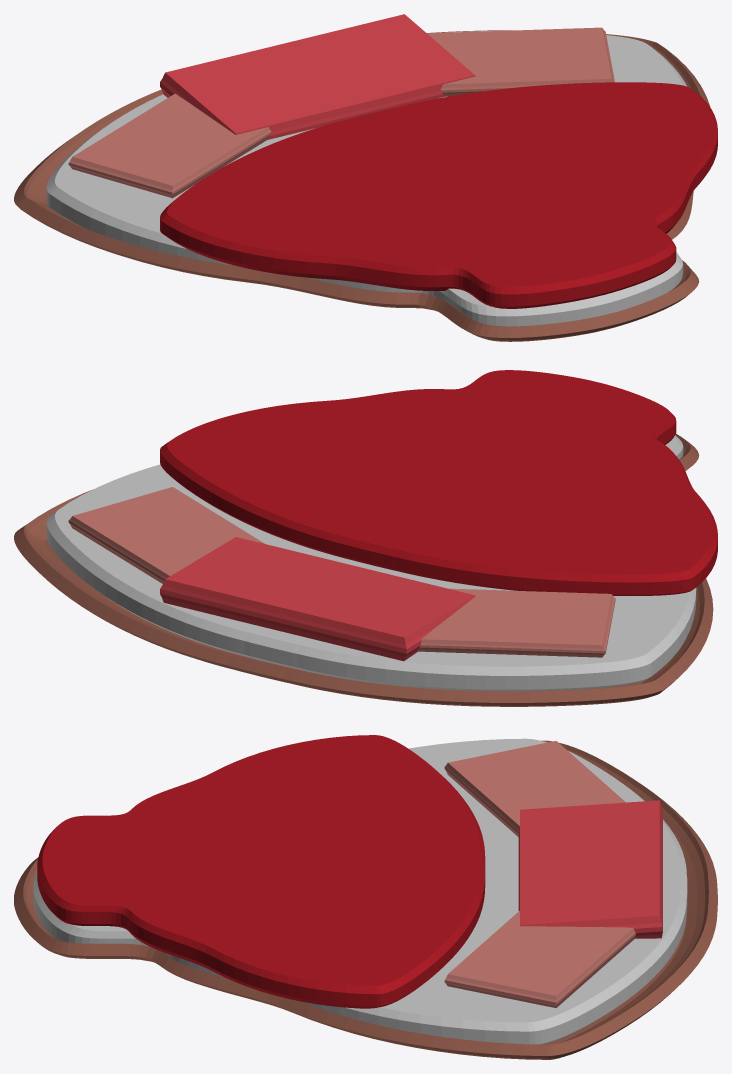
The model's file is bed.glb.
3 renders of one model, top to bottom at view 1: azimuth 30°, elevation 25°; view 2: azimuth 150°, elevation 25°; view 3: azimuth 270°, elevation 25°, orthographic.
Visible parts, largest first — view 1: BézierCurve.002, Cube.002, BézierCurve.001, BézierCurve, Cube.003, Cube.001; view 2: BézierCurve.002, BézierCurve.001, Cube.002, BézierCurve, Cube.003, Cube.001; view 3: BézierCurve.002, BézierCurve.001, BézierCurve, Cube.002, Cube.001, Cube.003.
Boxes of the visible parts, bbox=[...] form: BézierCurve.002: bbox=[160, 82, 717, 308]; Cube.002: bbox=[160, 14, 475, 139]; BézierCurve.001: bbox=[46, 31, 686, 326]; BézierCurve: bbox=[14, 30, 710, 341]; Cube.003: bbox=[68, 93, 271, 198]; Cube.001: bbox=[427, 27, 614, 96]; BézierCurve.002: bbox=[160, 370, 717, 595]; BézierCurve.001: bbox=[46, 435, 696, 691]; Cube.002: bbox=[160, 537, 475, 661]; BézierCurve: bbox=[14, 433, 713, 706]; Cube.003: bbox=[418, 588, 615, 657]; Cube.001: bbox=[68, 487, 264, 583]; BézierCurve.002: bbox=[37, 735, 485, 1008]; BézierCurve.001: bbox=[33, 738, 687, 1044]; BézierCurve: bbox=[14, 740, 717, 1059]; Cube.002: bbox=[518, 800, 662, 938]; Cube.001: bbox=[444, 911, 635, 1007]; Cube.003: bbox=[444, 741, 625, 836].
Size of the model in its own units: 5.91 by 0.5023 by 5.64.
